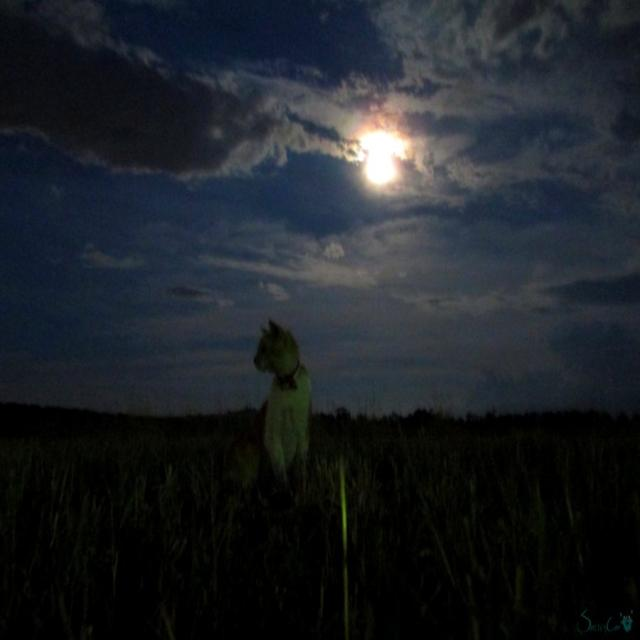Cat: (227, 311, 320, 533)
